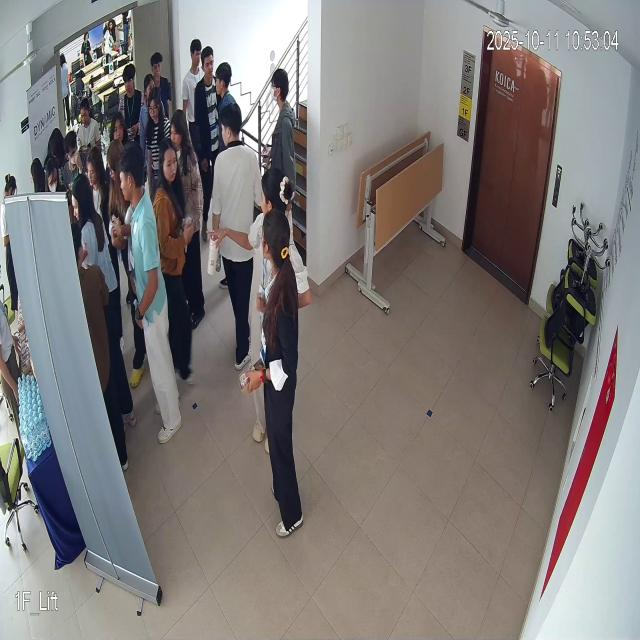face: (157, 130, 186, 192)
